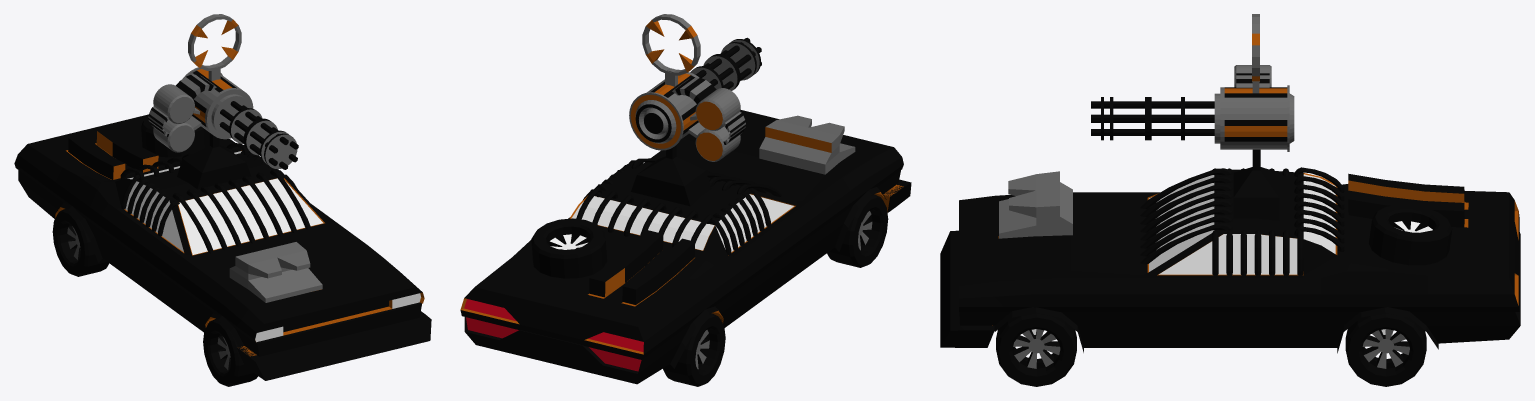
The model's file is Car_MachineGun.fbx.
3 views of the same model, side by side, from view 1: azimuth 30°, elevation 25°; view 2: azimuth 150°, elevation 25°; view 3: azimuth 270°, elevation 25° (orthographic). The views are drawn at different scales.
Parts seen in each view (by area): view 1: Top_A, Car Main, Bot_A, MachineGun, Window_A, Wheel4, Wheel2, MachineGuns_B; view 2: Top_A, Car Main, MachineGun, Bot_A, Window_A, Wheel4, Wheel2, MachineGuns_B; view 3: Top_A, Car Main, Bot_A, Window_A, MachineGun, Wheel3, Wheel1, MachineGuns_B.
Boxes of the visible parts, <box> form: Top_A: <box>14,114,424,343</box>; Car Main: <box>55,117,420,356</box>; Bot_A: <box>18,170,431,380</box>; MachineGun: <box>148,14,297,169</box>; Window_A: <box>120,143,311,253</box>; Wheel4: <box>52,209,109,276</box>; Wheel2: <box>203,319,257,386</box>; MachineGuns_B: <box>219,101,298,169</box>; Top_A: <box>460,109,903,359</box>; Car Main: <box>464,115,903,371</box>; MachineGun: <box>629,14,760,161</box>; Bot_A: <box>464,170,911,384</box>; Window_A: <box>576,158,781,255</box>; Wheel4: <box>663,313,725,386</box>; Wheel2: <box>827,194,888,267</box>; MachineGuns_B: <box>695,37,761,89</box>; Top_A: <box>959,149,1519,311</box>; Car Main: <box>992,171,1464,325</box>; Bot_A: <box>940,230,1520,353</box>; Window_A: <box>1140,167,1344,275</box>; MachineGun: <box>1101,14,1294,151</box>; Wheel3: <box>1345,312,1426,386</box>; Wheel1: <box>996,312,1076,386</box>; MachineGuns_B: <box>1091,101,1214,135</box>.
Bounding box in the file's own units: 138 × 208 × 338.
